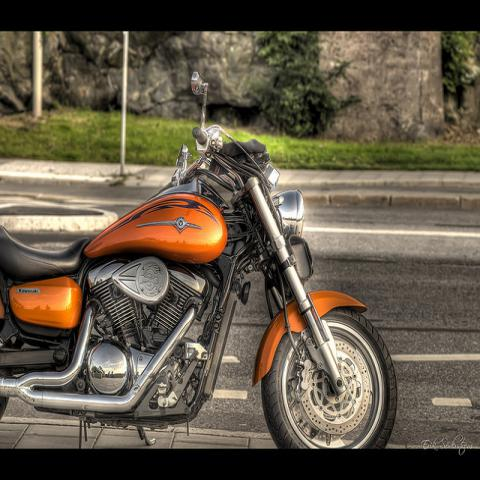motorcycle: (1, 70, 398, 450)
